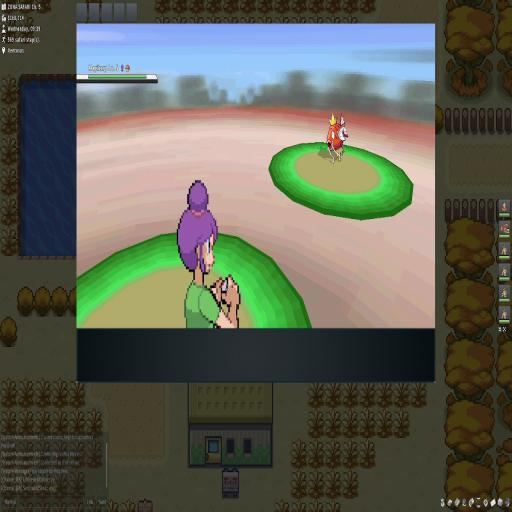MAGIKARP: (325, 114, 349, 164)
